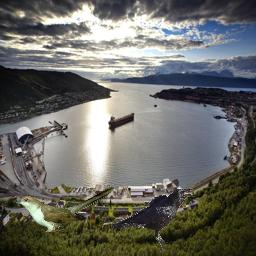Crow: (111, 188, 194, 253)
Cuckoo: (13, 186, 114, 232)
